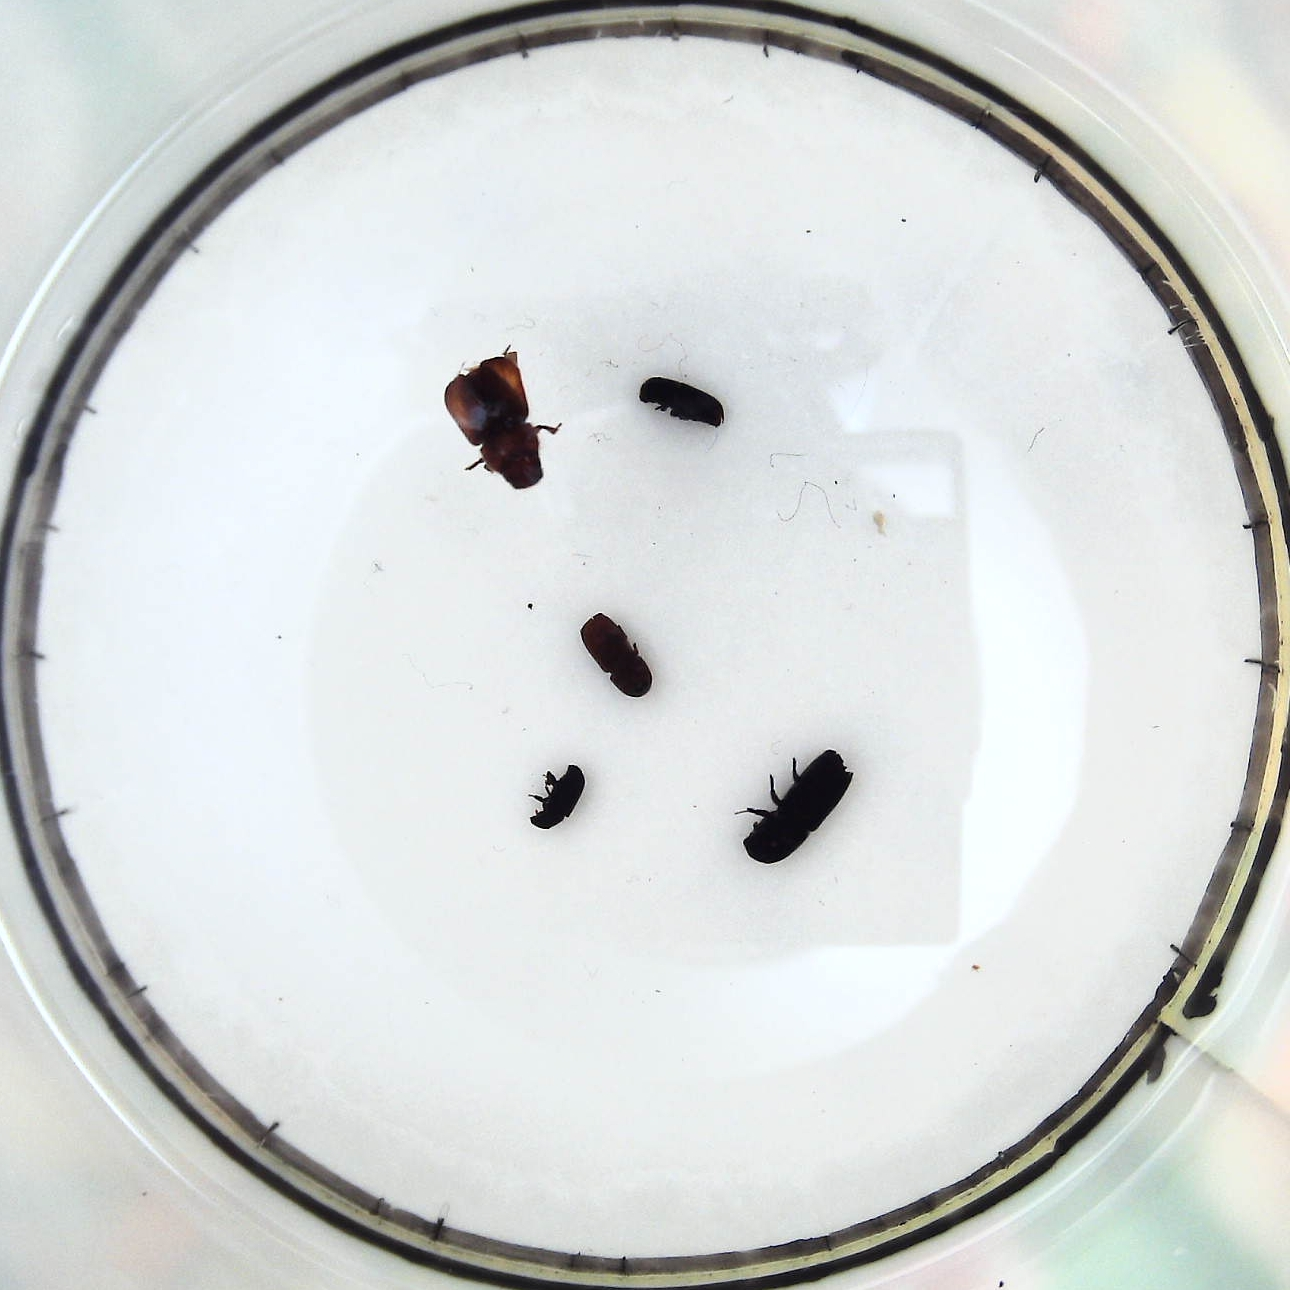Boerner: (738, 749, 853, 864)
Leconte: (441, 356, 553, 494)
Linnaeus: (581, 610, 653, 702)
armandi: (640, 373, 719, 431)
coleoptera: (532, 764, 587, 828)
